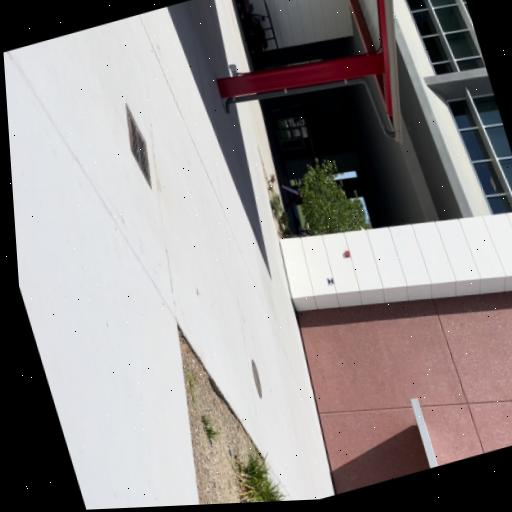target9: (326, 275, 335, 286)
